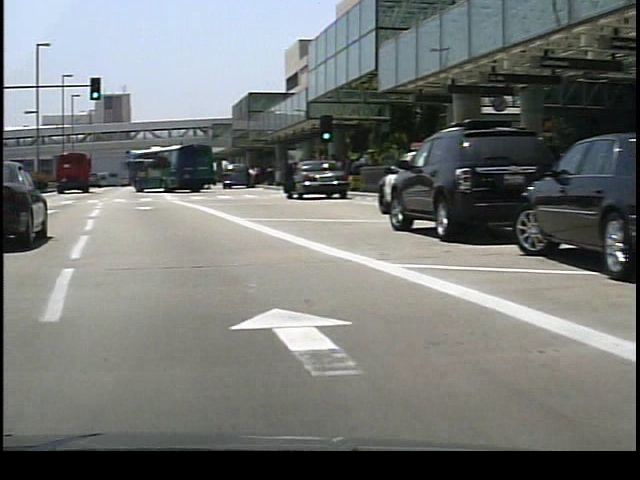person: (247, 165, 258, 188)
